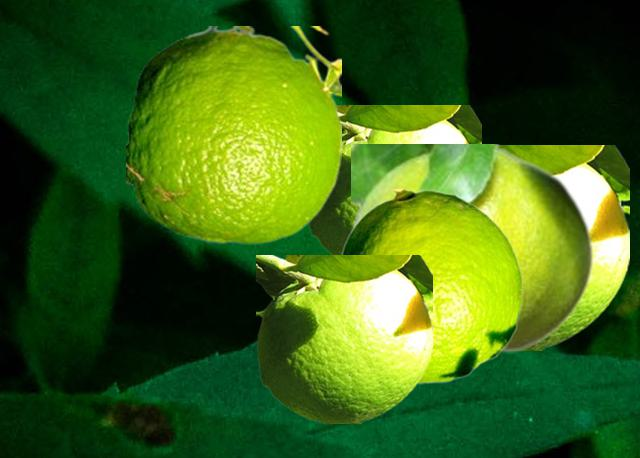dalandan: (351, 144, 594, 352), (126, 26, 340, 243), (338, 189, 522, 383), (256, 255, 431, 422), (501, 145, 628, 349), (307, 105, 480, 254)
